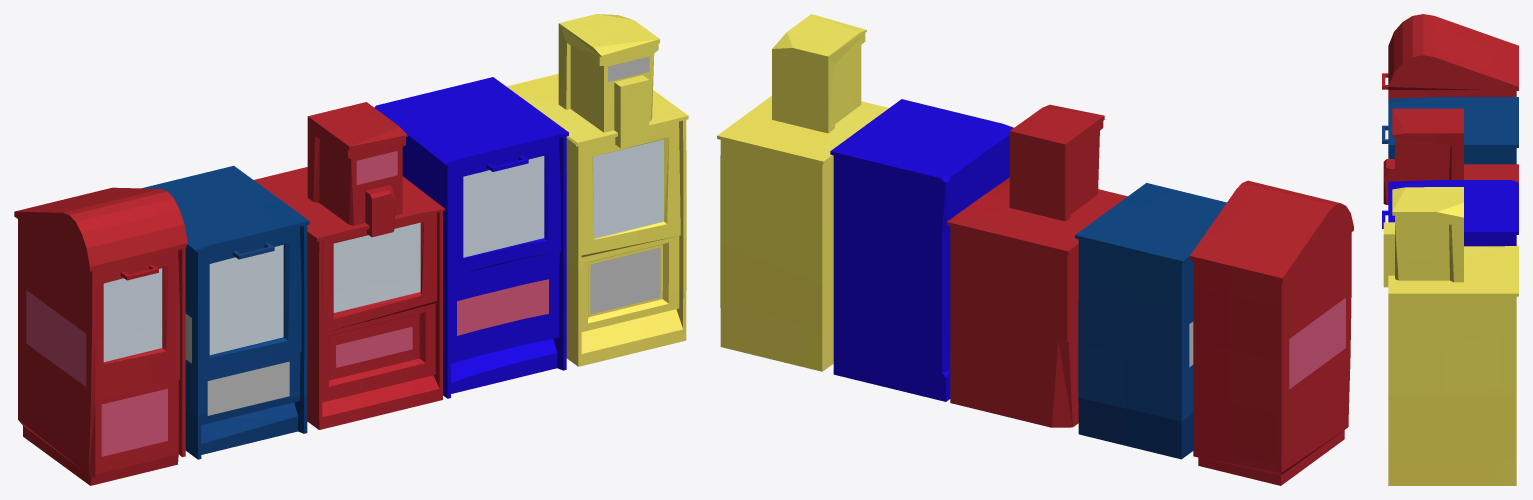
Rendered from NewspaperBox.fbx.
The picture shows the model from 3 angles, left to right: view 1: azimuth 30°, elevation 25°; view 2: azimuth 150°, elevation 25°; view 3: azimuth 270°, elevation 25°; orthographic projection. The views are drawn at different scales.
Parts seen in each view (by area): view 1: SM_City_NewspaperBox_01.mo; view 2: SM_City_NewspaperBox_01.mo; view 3: SM_City_NewspaperBox_01.mo.
Boxes of the visible parts, bbox=[...] form: SM_City_NewspaperBox_01.mo: bbox=[14, 14, 688, 485]; SM_City_NewspaperBox_01.mo: bbox=[717, 14, 1353, 485]; SM_City_NewspaperBox_01.mo: bbox=[1382, 14, 1518, 485].
Bounding box in the file's own units: 246 × 122 × 56.42.
